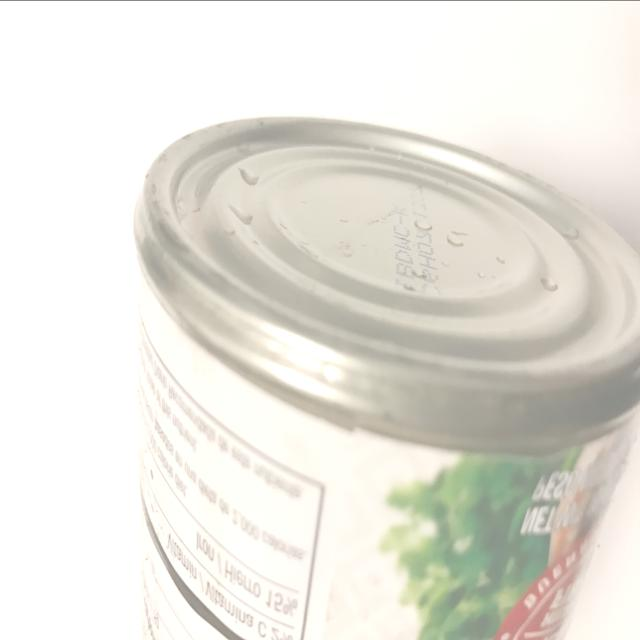Metal: (84, 87, 639, 640)
